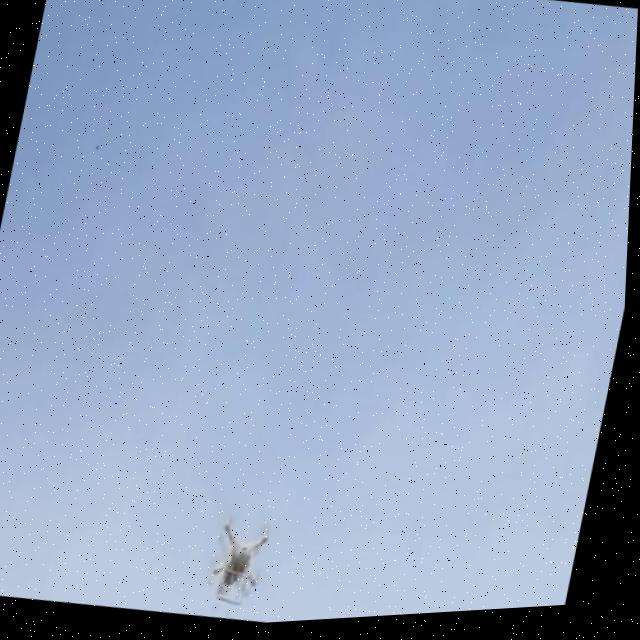drones: (165, 460, 326, 631)
